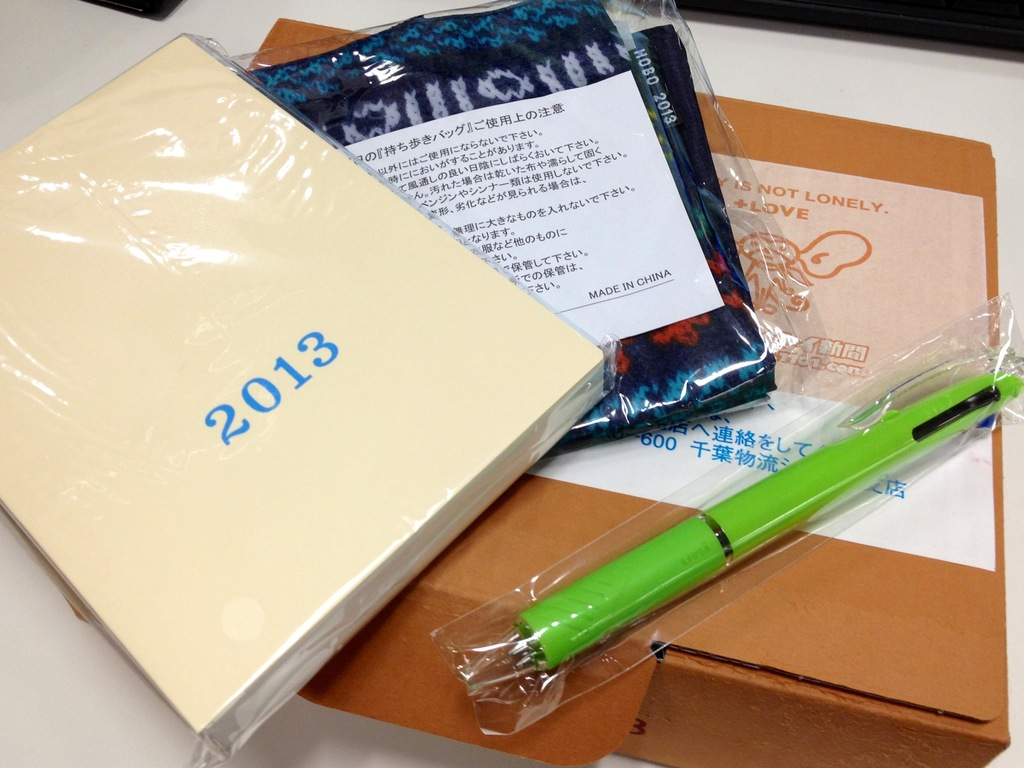Pen: (514, 367, 1020, 672)
